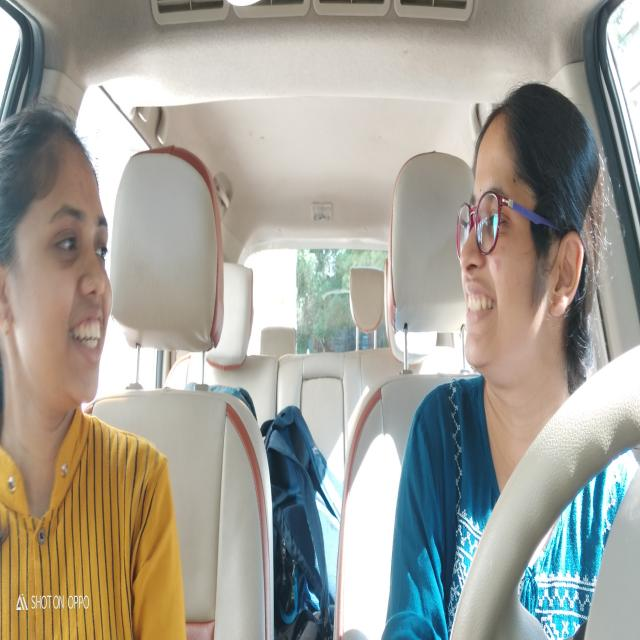LeftRight: (456, 87, 590, 360)
person: (2, 113, 111, 400)
talking: (69, 314, 109, 359), (462, 281, 501, 324)
